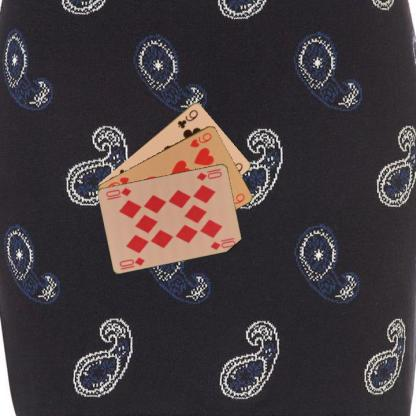10d: (194, 166, 223, 182), (117, 254, 146, 268)
9c: (175, 107, 199, 129)
9h: (187, 130, 213, 148)
